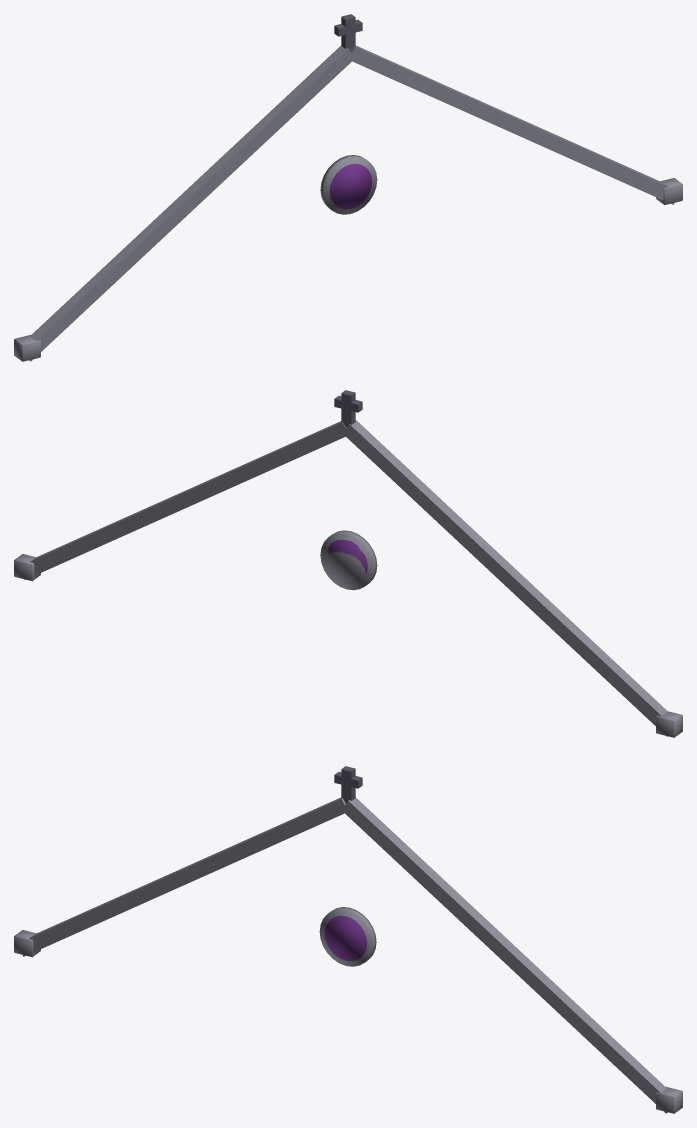
The model's file is kit_church_gable_w10.glb.
3 views of the same model, one above another, from view 1: azimuth 30°, elevation 25°; view 2: azimuth 150°, elevation 25°; view 3: azimuth 330°, elevation 25° (orthographic).
Visible parts, largest first — view 1: kit_church_gable_w10; view 2: kit_church_gable_w10; view 3: kit_church_gable_w10.
Boxes of the visible parts, x1,y1,x2,y2 form: kit_church_gable_w10: [14, 14, 682, 361]; kit_church_gable_w10: [14, 390, 682, 737]; kit_church_gable_w10: [14, 766, 682, 1113].
Bounding box in the file's own units: 10.42 × 3.97 × 0.24.
